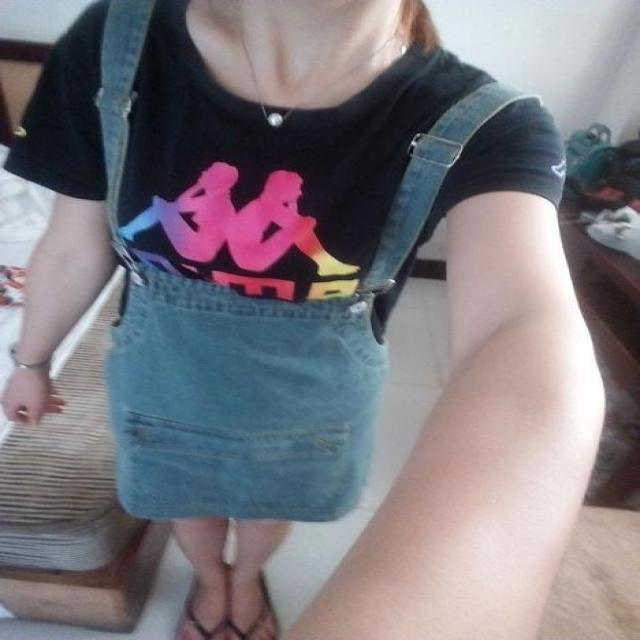short sleeve top: (5, 0, 568, 376)
sling dress: (94, 1, 541, 522)
